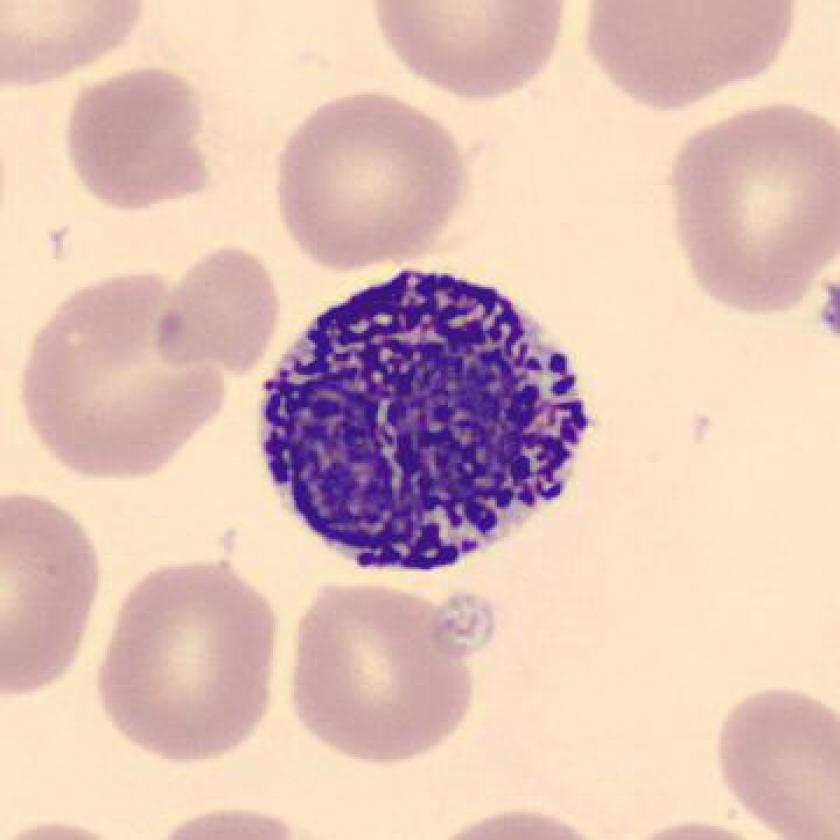basophil: (258, 258, 603, 577)
